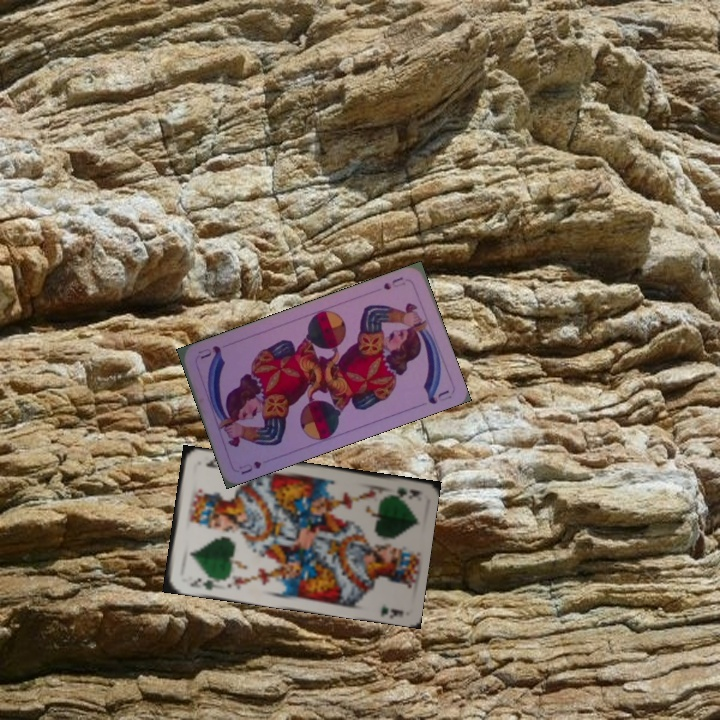GK: (186, 573, 220, 593), (383, 483, 423, 499)
SU: (235, 457, 264, 477), (379, 273, 408, 293)
